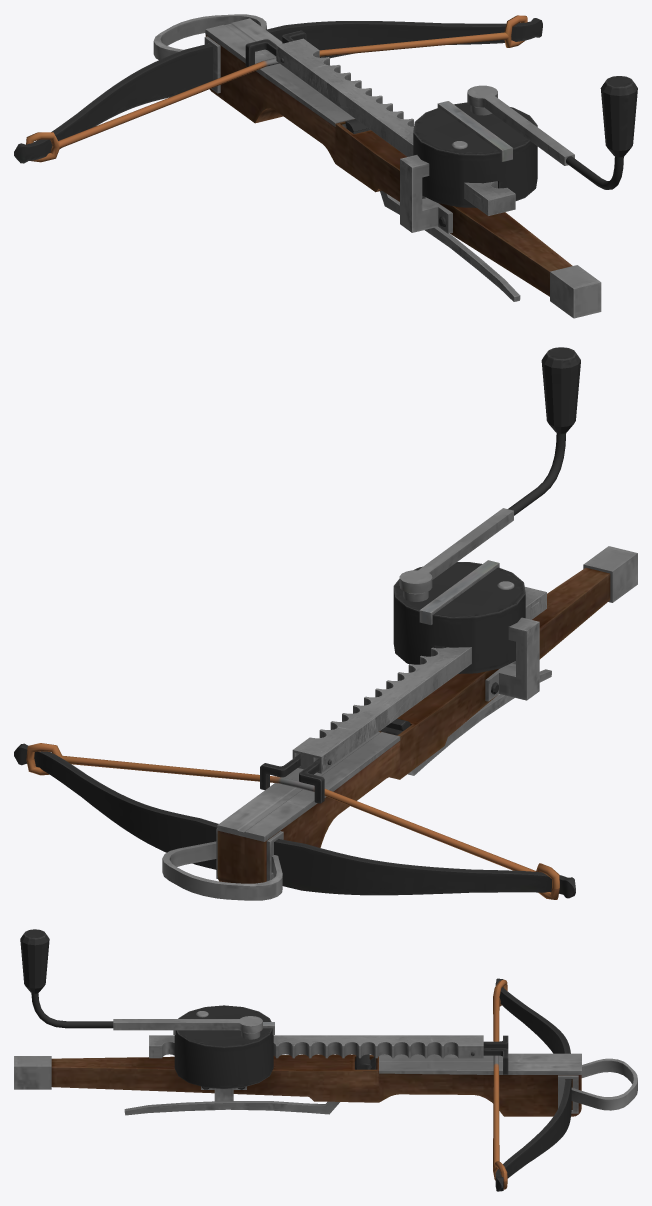
File: heavy_xbow.glb
3 renders of one model, top to bottom at view 1: azimuth 30°, elevation 25°; view 2: azimuth 150°, elevation 25°; view 3: azimuth 270°, elevation 25°, orthographic. The views are drawn at different scales.
Parts seen in each view (by area): view 1: Object_389; view 2: Object_389; view 3: Object_389.
Boxes of the visible parts, x1,y1,x2,y2 form: Object_389: (14, 14, 637, 318); Object_389: (14, 347, 637, 900); Object_389: (14, 929, 637, 1191).
Size of the model in its own units: 0.5759 by 0.2609 by 0.7459.
1 material, 1 textured.
